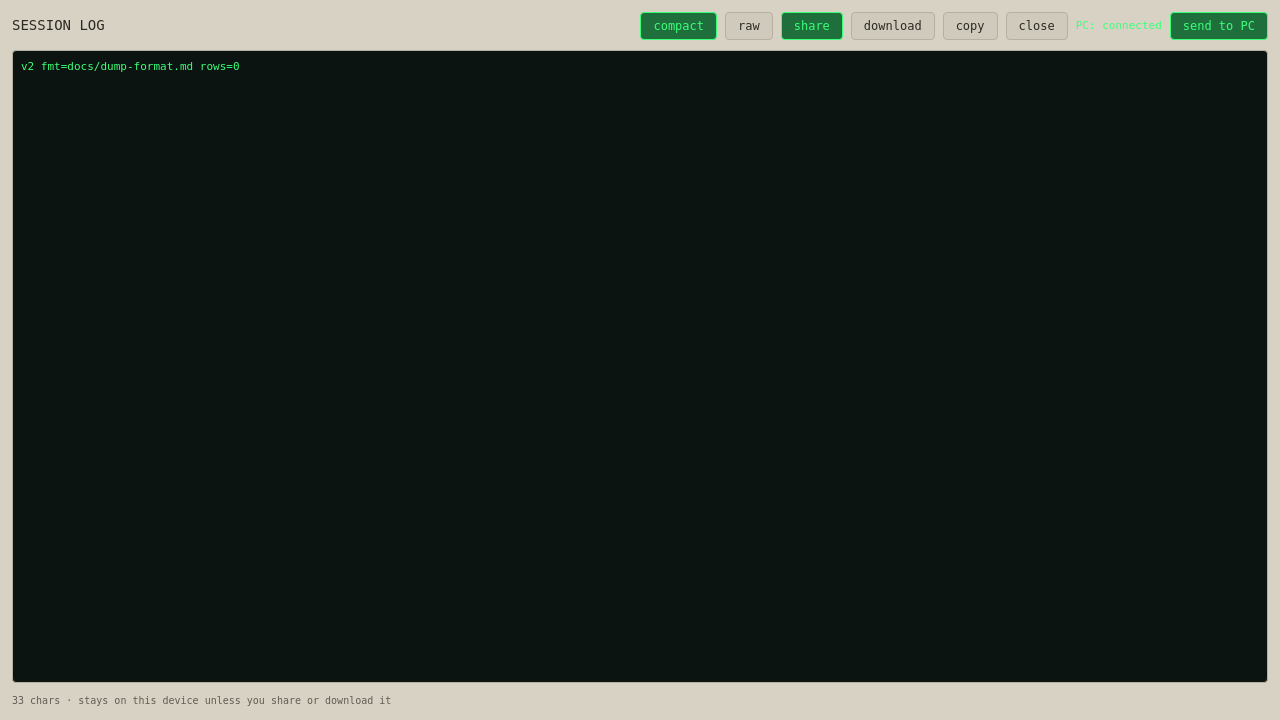
Test: LogShare reporter row › shows the chip and sends on click when connected
Check: the text "PC: connected" is shown, box [1076, 18, 1162, 34]
Click the button "send to PC" at [1219, 26], box [1170, 12, 1268, 40]
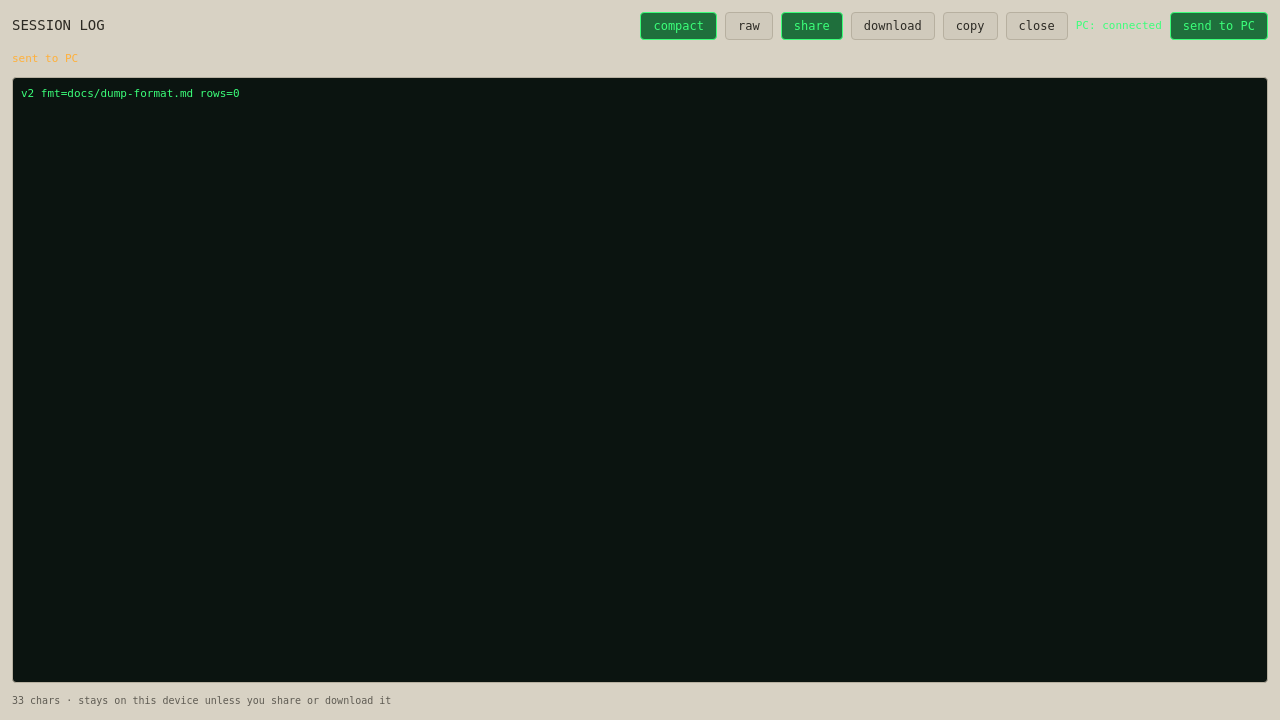
Check: the text "sent to PC" is shown, box [12, 52, 78, 65]
